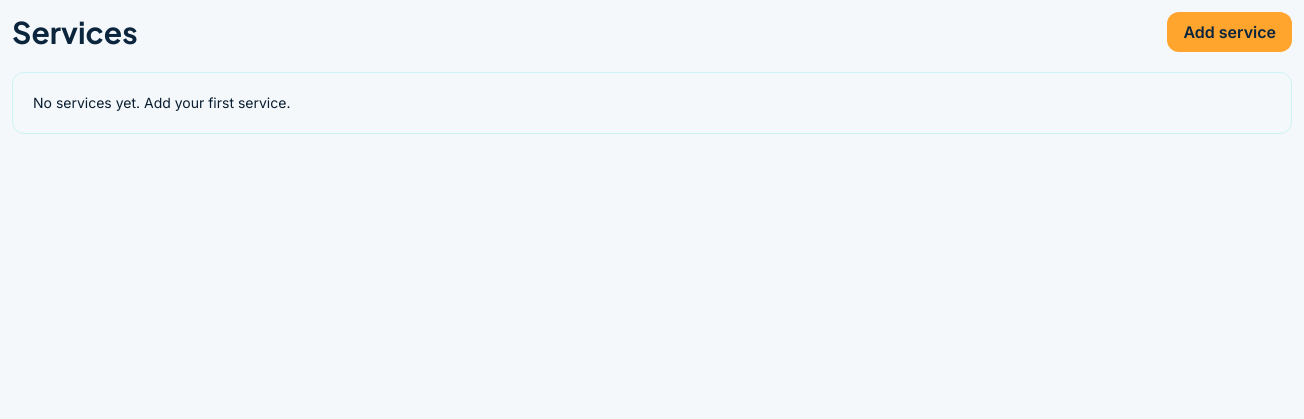
ServicesPage › validates the add-service form
This screenshot has width=1304, height=419.
Click the button "Add service".
click(1230, 32)  # box x1=1167 y1=12 x2=1292 y2=52
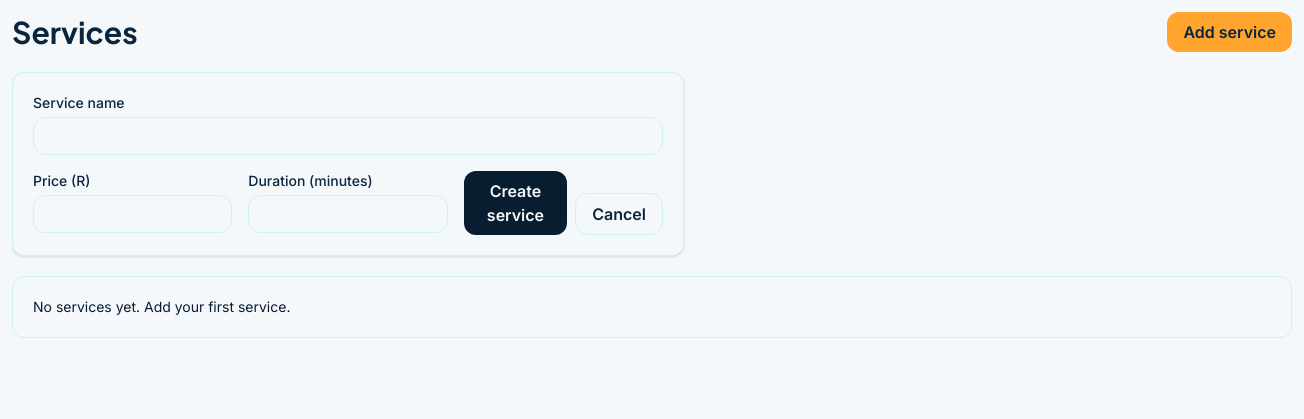
Type "Haircut" into the field labelled "Service name".
click(348, 136); type("Haircut")  # box x1=33 y1=117 x2=663 y2=155
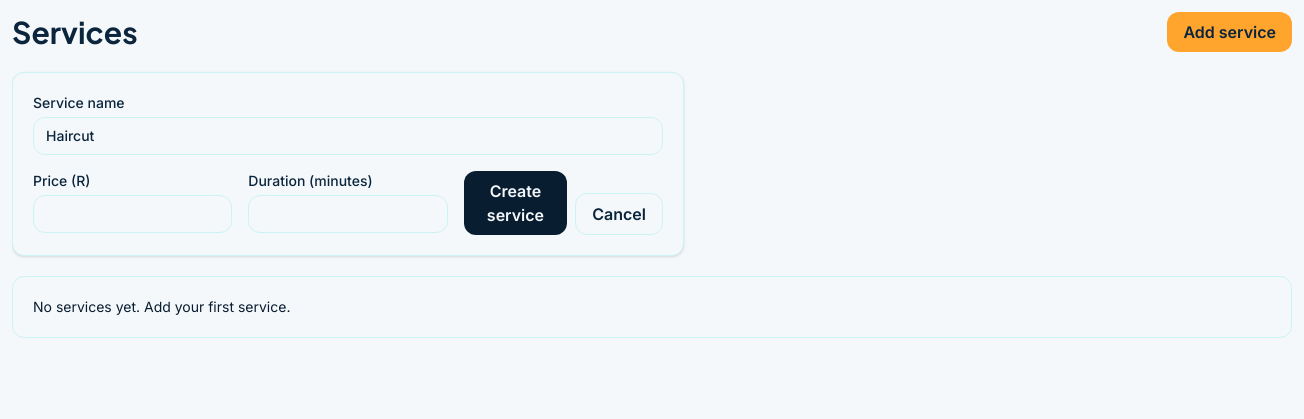
Type "0" into the number field labelled "Price (R)".
click(133, 214); type("0")  # box x1=33 y1=195 x2=232 y2=233
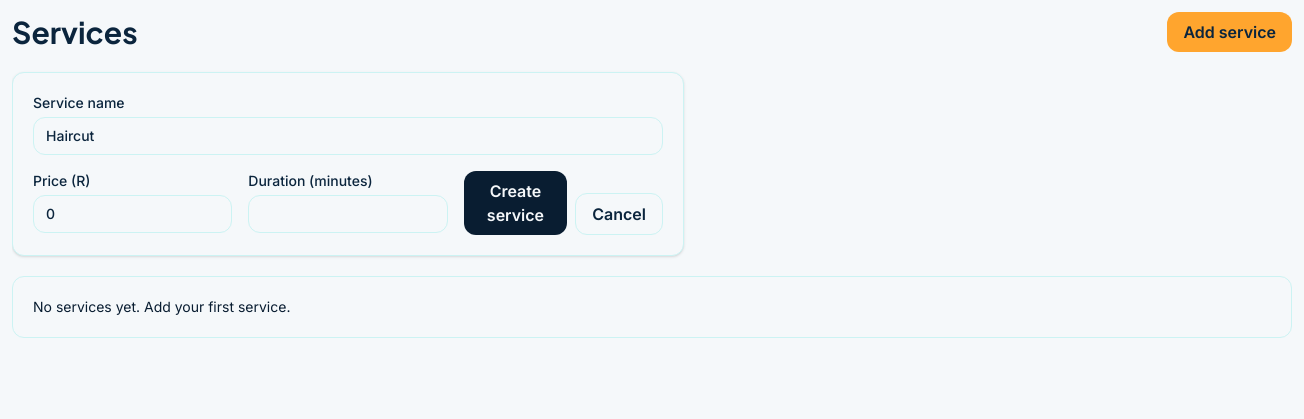
Type "30" into the number field labelled "Duration (minutes)".
click(348, 214); type("30")  # box x1=248 y1=195 x2=448 y2=233
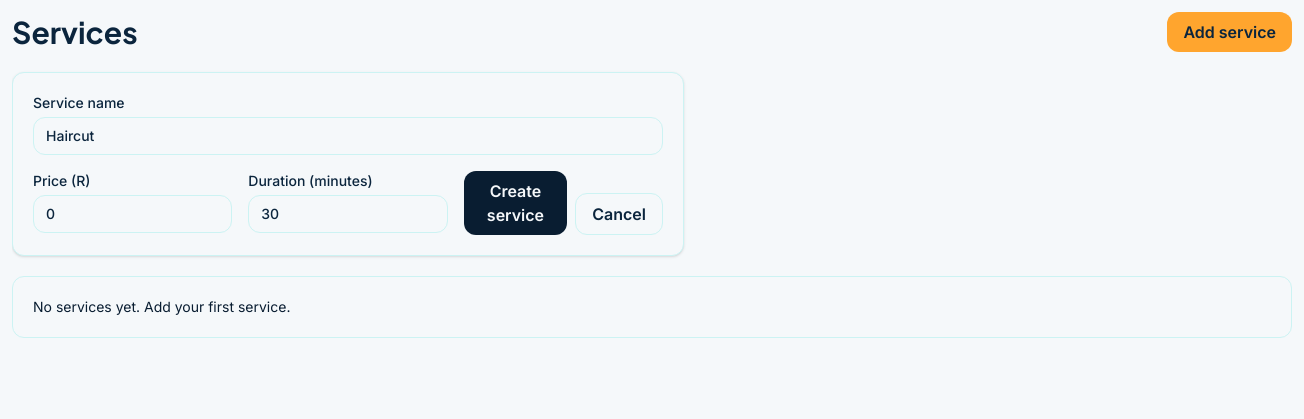
Submit the form "Create service", box x1=12 y1=72 x2=684 y2=256
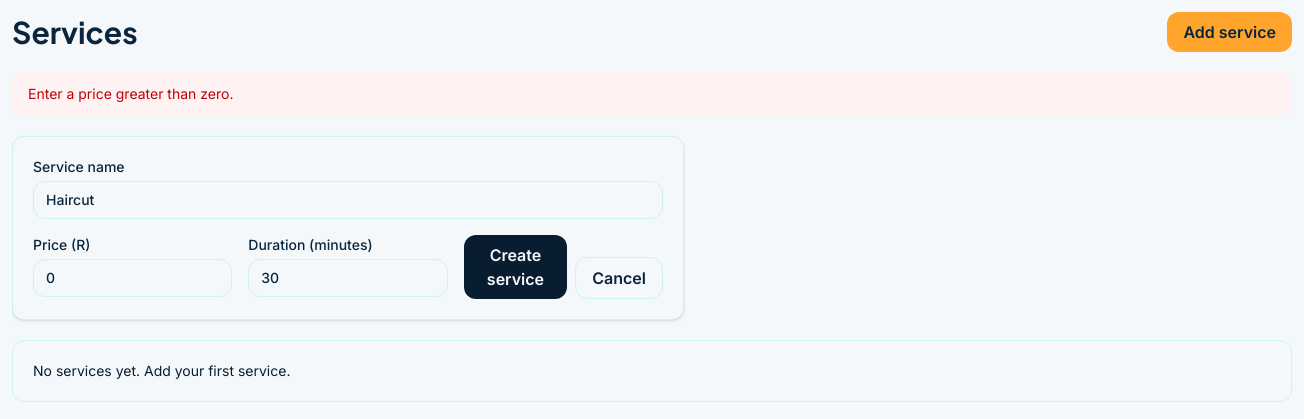
Expected: the message reads "Enter a price greater than zero.", x1=28 y1=85 x2=234 y2=102
